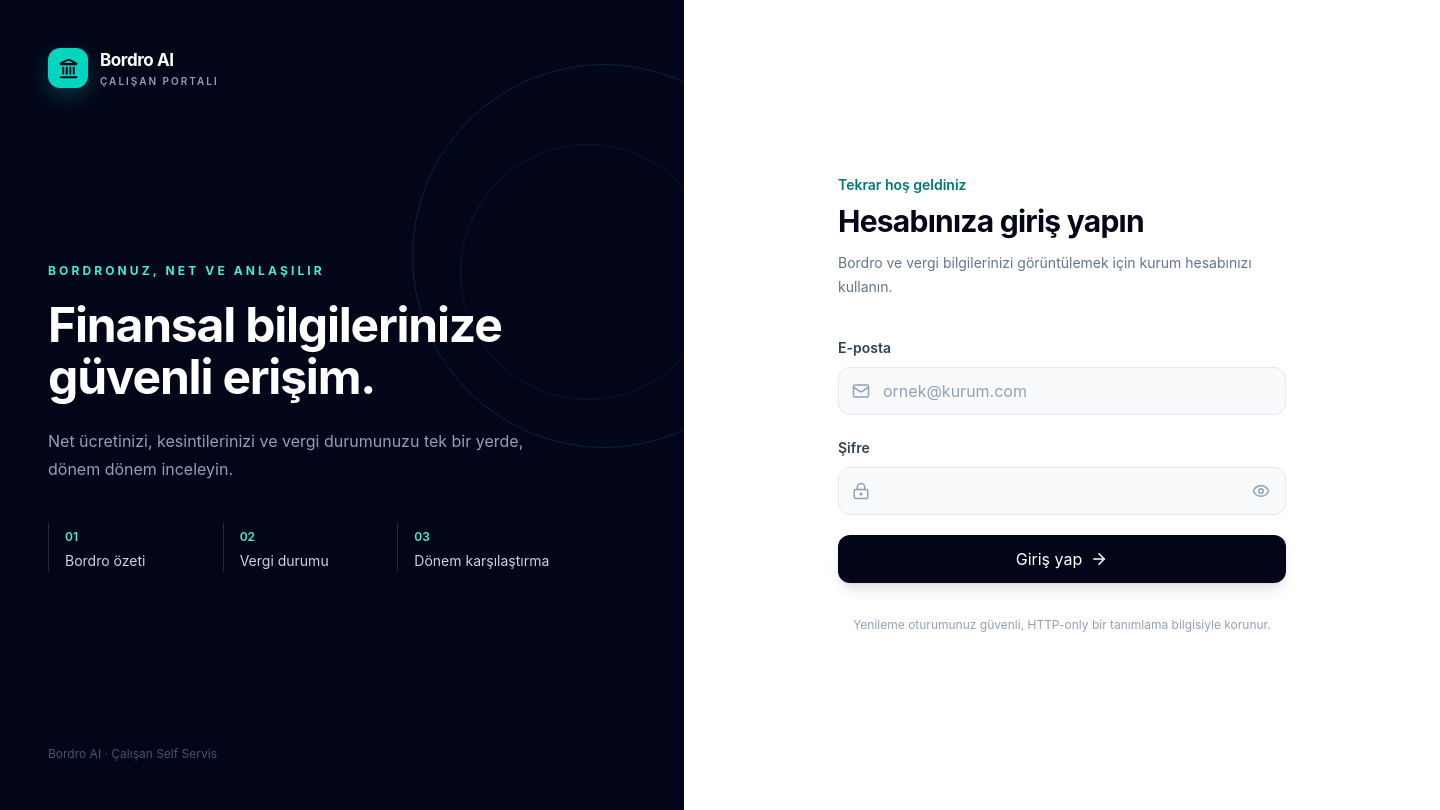
Scenario: authentication routes › shows a safe message when login fails
Type "employee@demo.local" into the field labelled "E-posta". click: (1062, 391)
box: [838,367,1286,415]
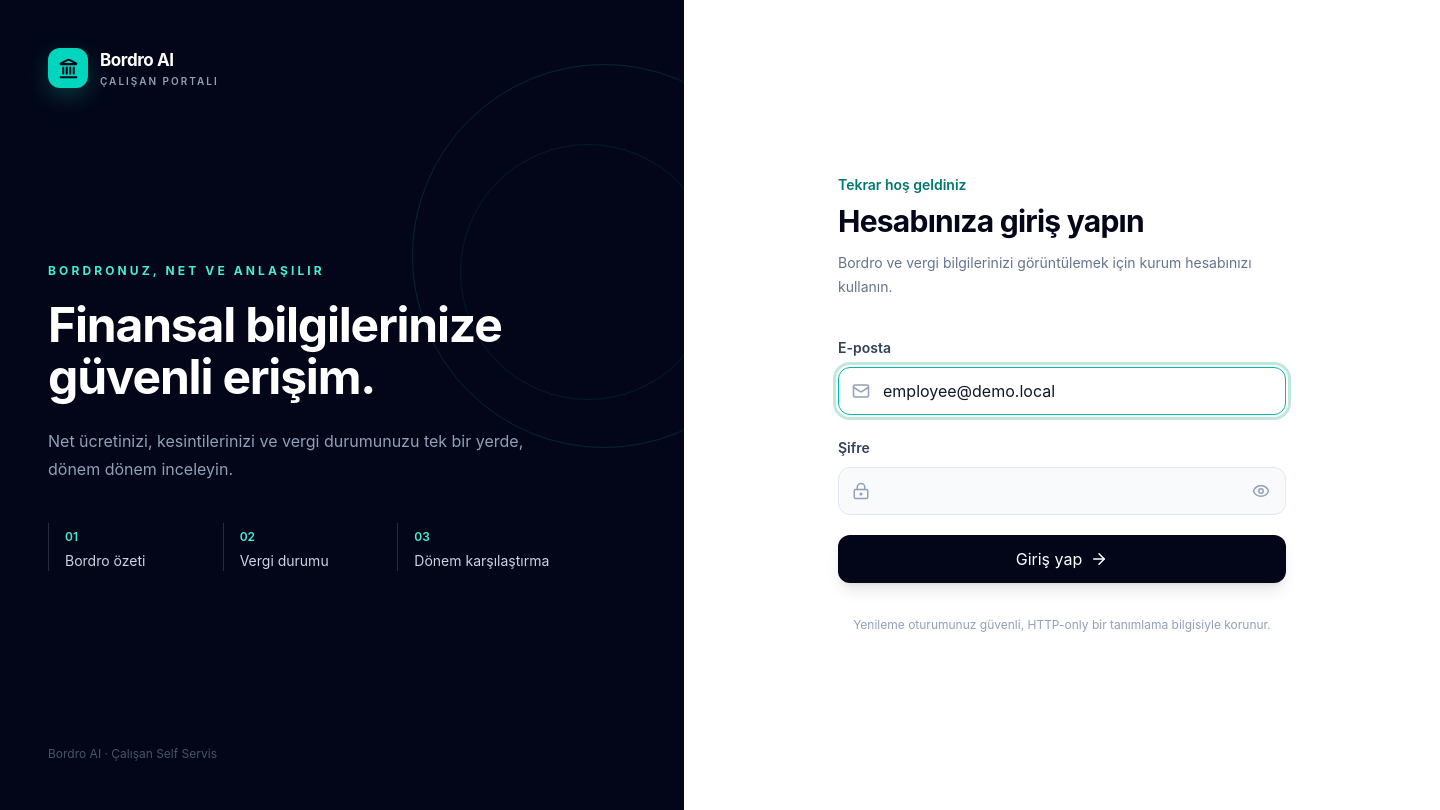
Type "wrong-password" into the password field labelled "Şifre". click: (1062, 491)
box: [838,467,1286,515]
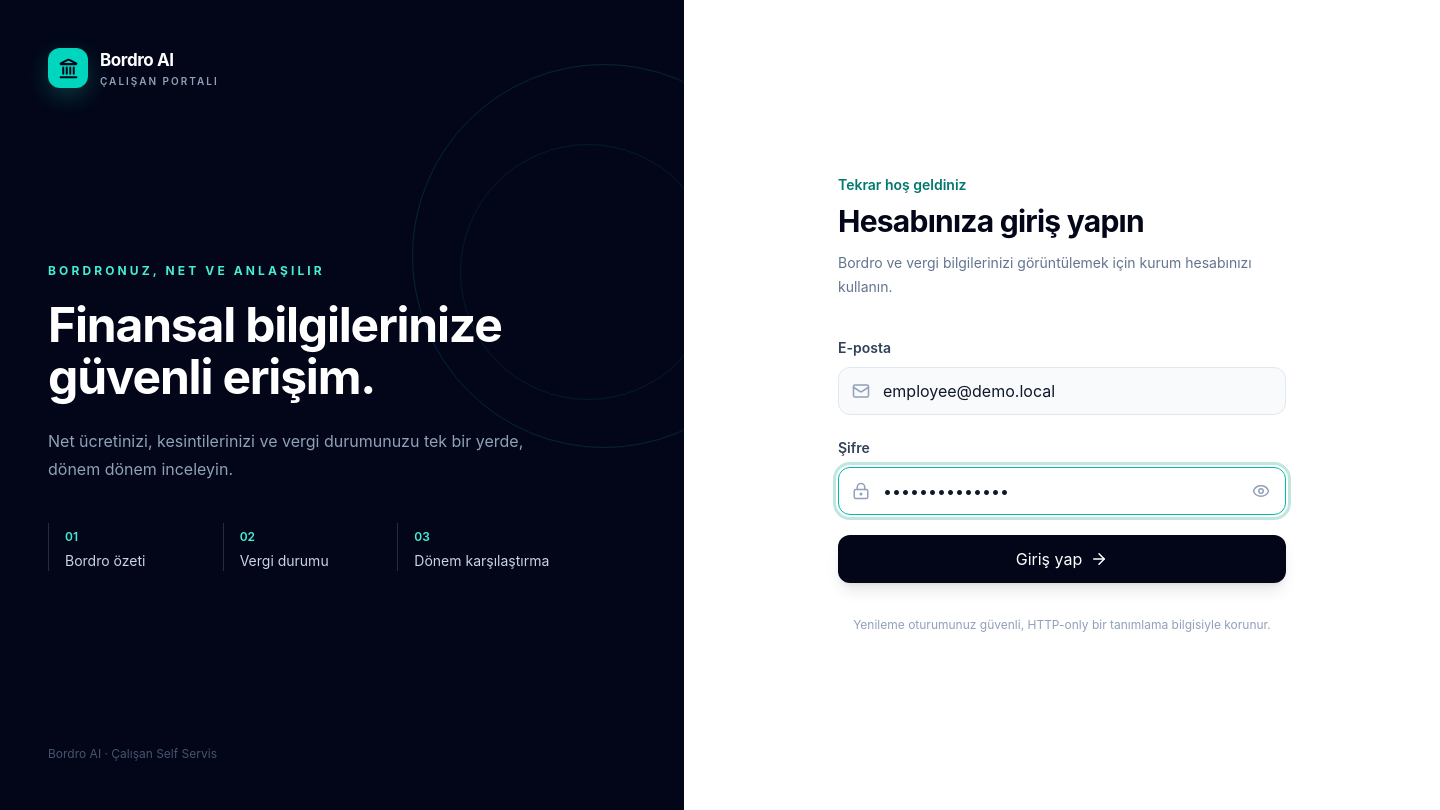
Click the button "Giriş yap". click: (1062, 559)
box: [838,535,1286,583]
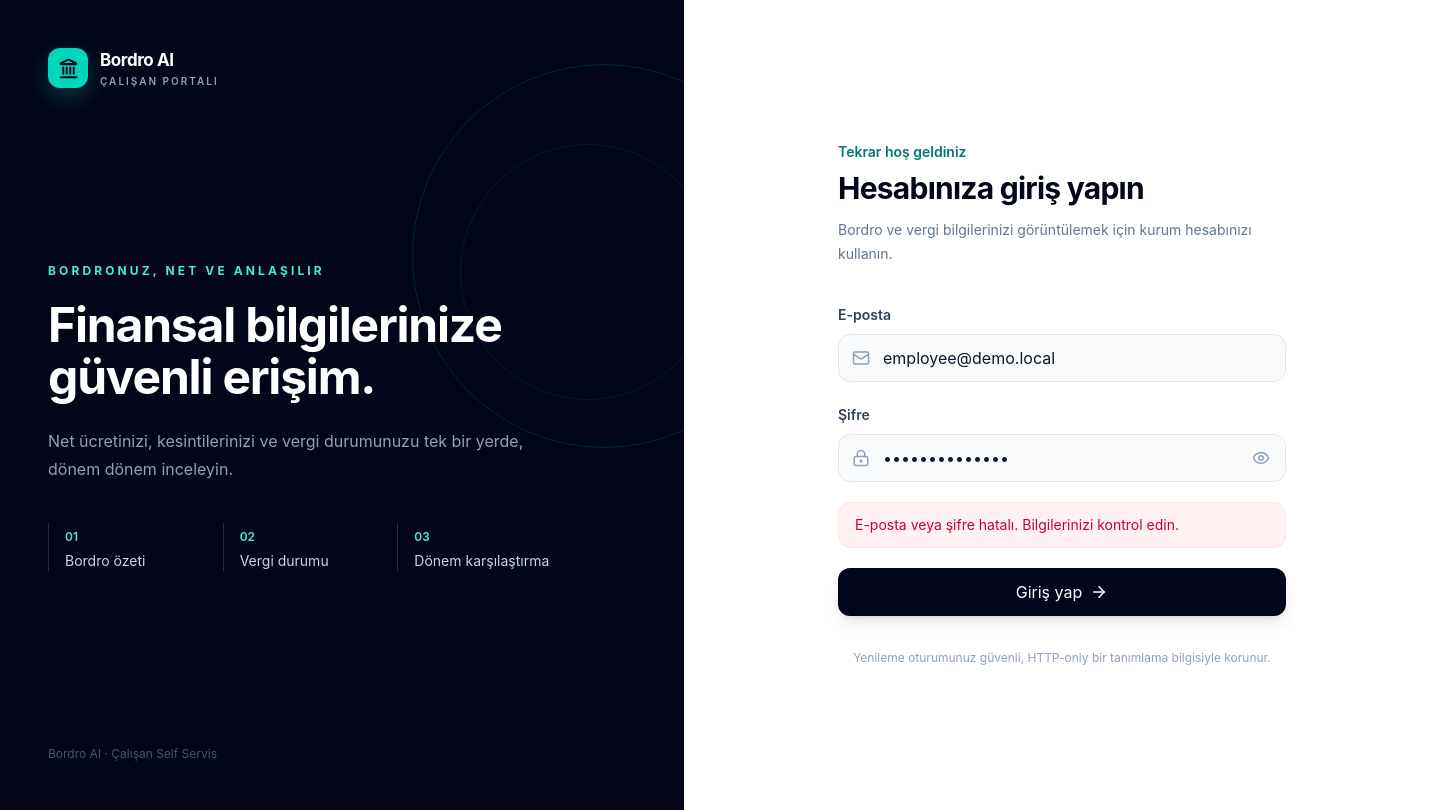
Result: the message shows "E-posta veya şifre hatalı" at [855,516,1179,533]
